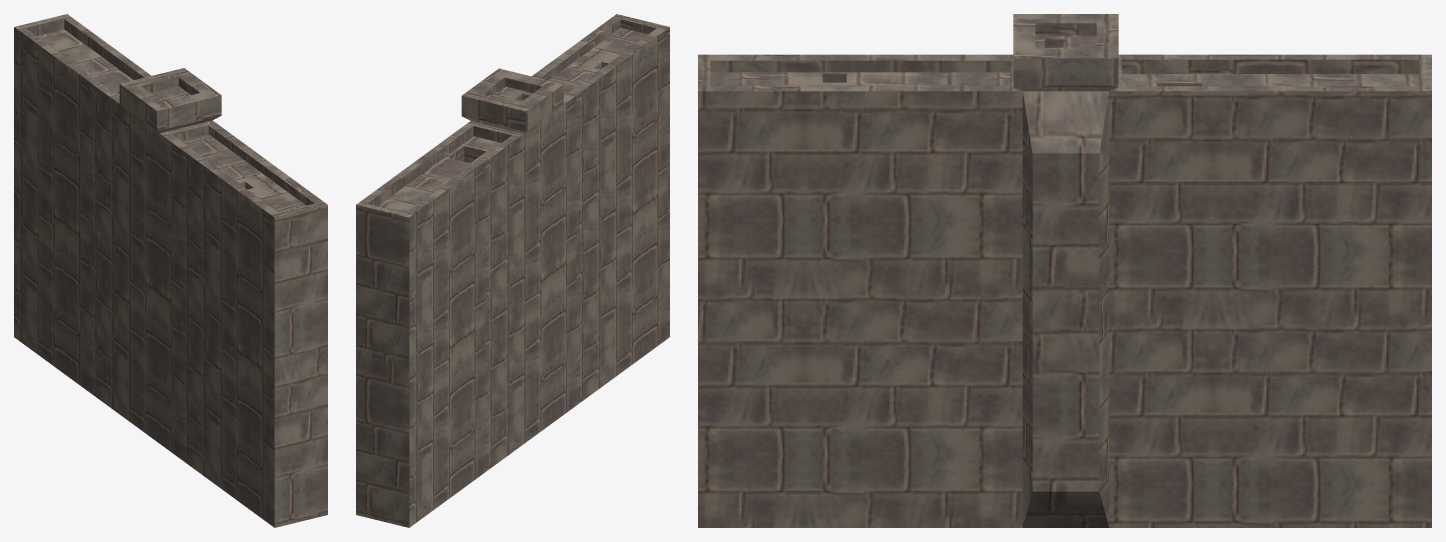
Rendered from Dwarf Wall.obj.
The picture shows the model from 3 angles, left to right: view 1: azimuth 30°, elevation 25°; view 2: azimuth 150°, elevation 25°; view 3: azimuth 270°, elevation 25°; orthographic projection. The views are drawn at different scales.
Parts seen in each view (by area): view 1: Plane; view 2: Plane; view 3: Plane.
Boxes of the visible parts, x1,y1,x2,y2 form: Plane: (14, 14, 327, 527); Plane: (356, 14, 669, 527); Plane: (698, 14, 1431, 527).
Size of the model in its own units: 0.1662 by 0.6869 by 0.9648.
1 material, 1 textured.
